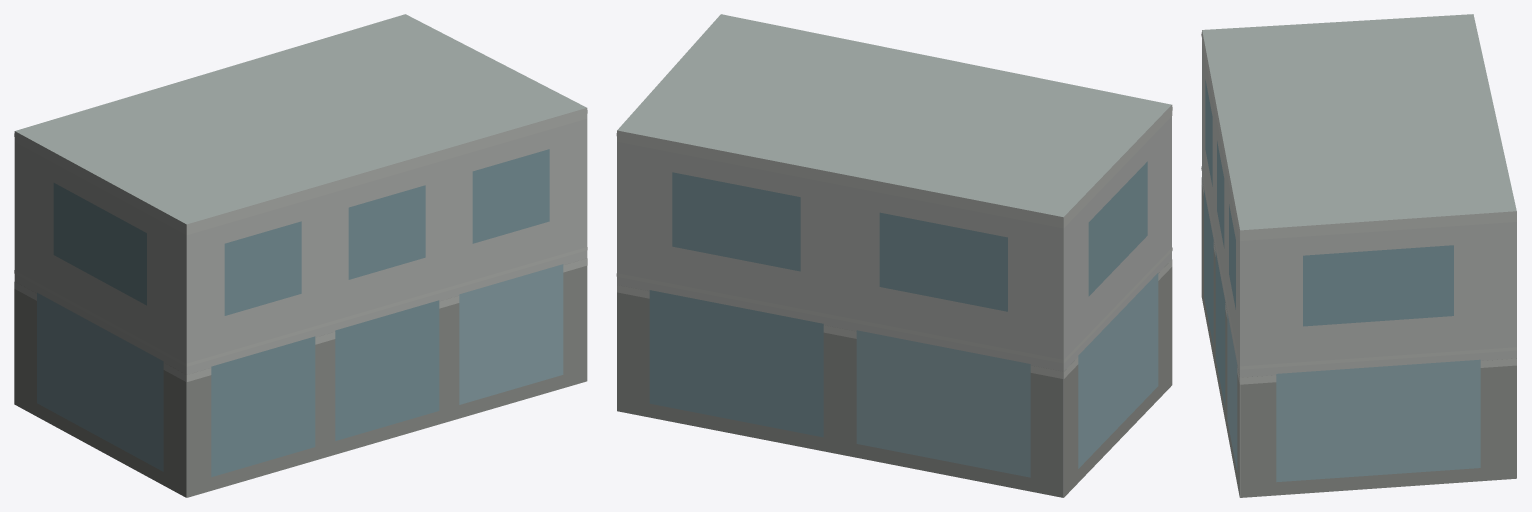
Rendered from survey-upis-32726082.glb.
The picture shows the model from 3 angles, left to right: view 1: azimuth 30°, elevation 25°; view 2: azimuth 150°, elevation 25°; view 3: azimuth 270°, elevation 25°; orthographic projection. The views are drawn at different scales.
Parts seen in each view (by area): view 1: survey-upis-32726082.tmp; view 2: survey-upis-32726082.tmp; view 3: survey-upis-32726082.tmp.
Part boxes in pixels (left/top/right/bottom): survey-upis-32726082.tmp: left=14, top=14, right=587, bottom=497; survey-upis-32726082.tmp: left=616, top=14, right=1172, bottom=497; survey-upis-32726082.tmp: left=1201, top=14, right=1516, bottom=497.
Bounding box in the file's own units: 10.61 × 6.1 × 6.53.
